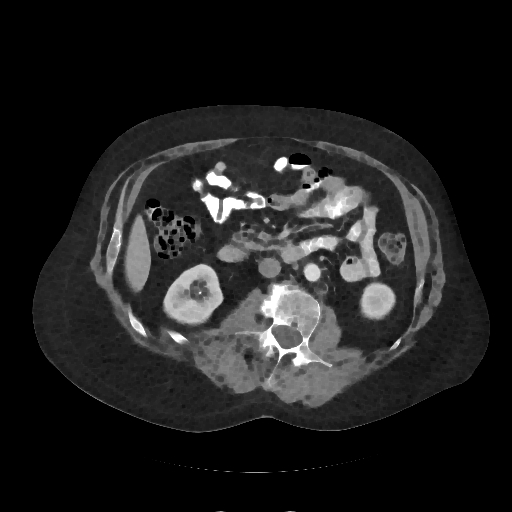Lesion: (192, 283, 205, 300)
